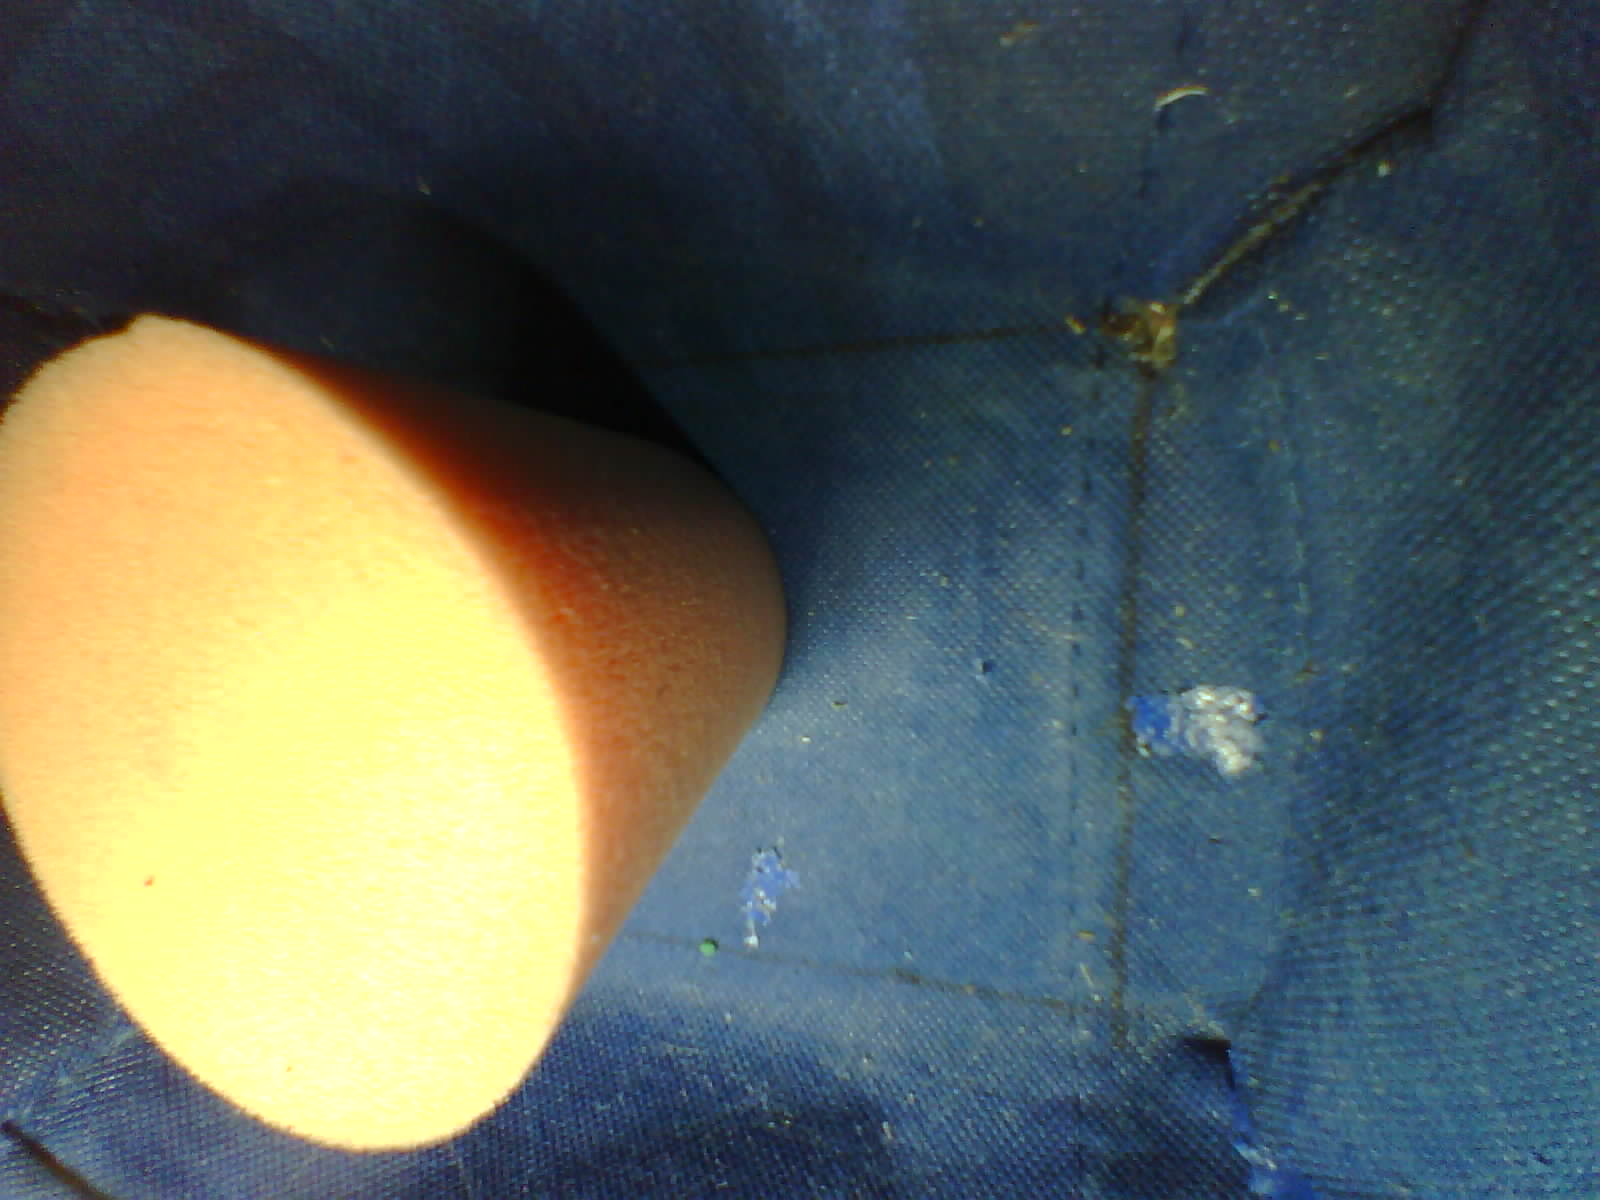cylinder-soft: (0, 286, 811, 1168)
